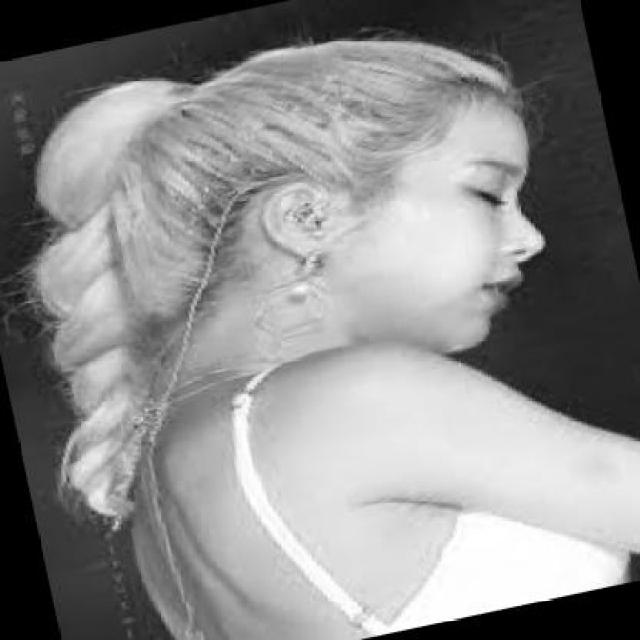earphone: (284, 188, 327, 244)
